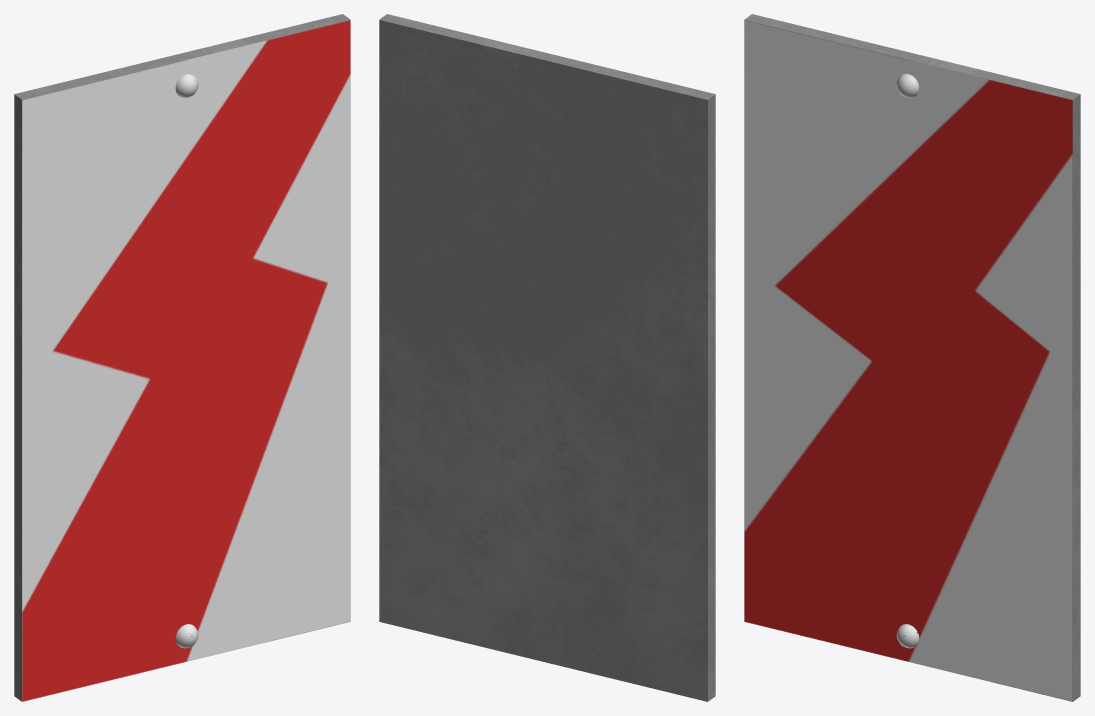
Rendered from ohl_end_1_twall.obj.
3 views of the same model, side by side, from view 1: azimuth 30°, elevation 25°; view 2: azimuth 150°, elevation 25°; view 3: azimuth 330°, elevation 25° (orthographic).
Visible parts, largest first — view 1: Twall._Board; view 2: Twall._Board; view 3: Twall._Board.
Part boxes in pixels (x1,y1,x2,y2): Twall._Board: [14, 14, 350, 701]; Twall._Board: [379, 14, 715, 701]; Twall._Board: [744, 14, 1080, 701].
Bounding box in the file's own units: 0.2 × 0.35 × 0.014.
Materials: 1 (1 with a texture image).
